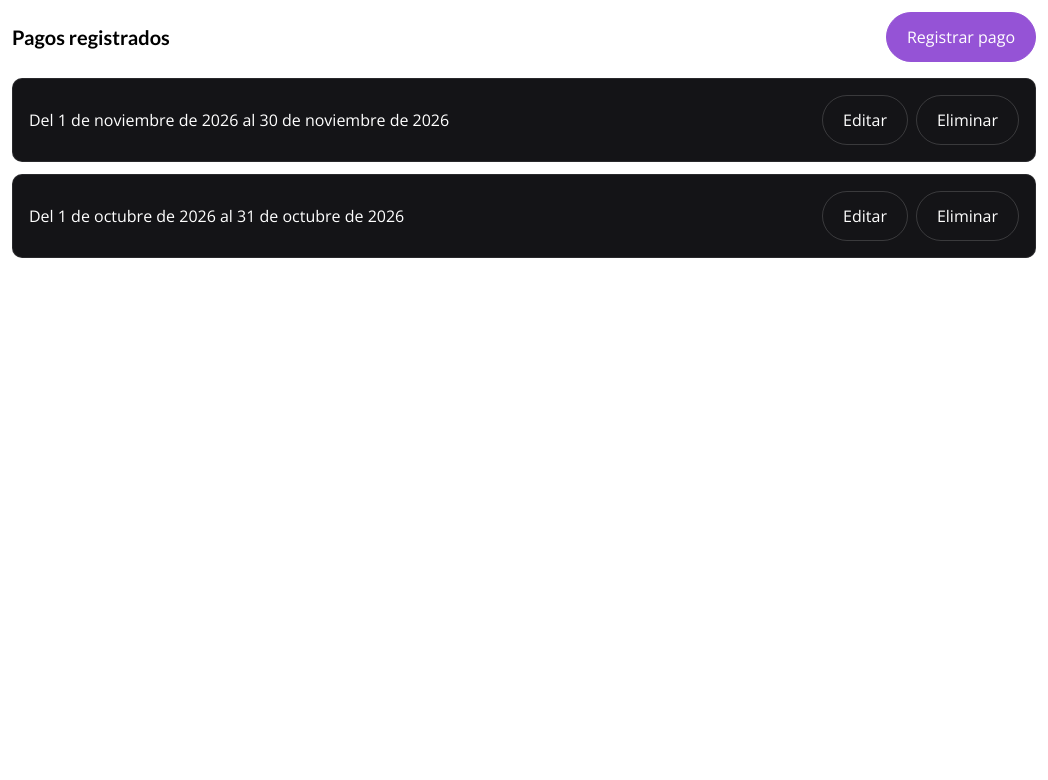
Test: MemberPeriods › recording a payment › opens the form above the list, starting after the latest payment that has not ended
Click the button "Registrar pago": (961, 37) [886,12,1036,62]
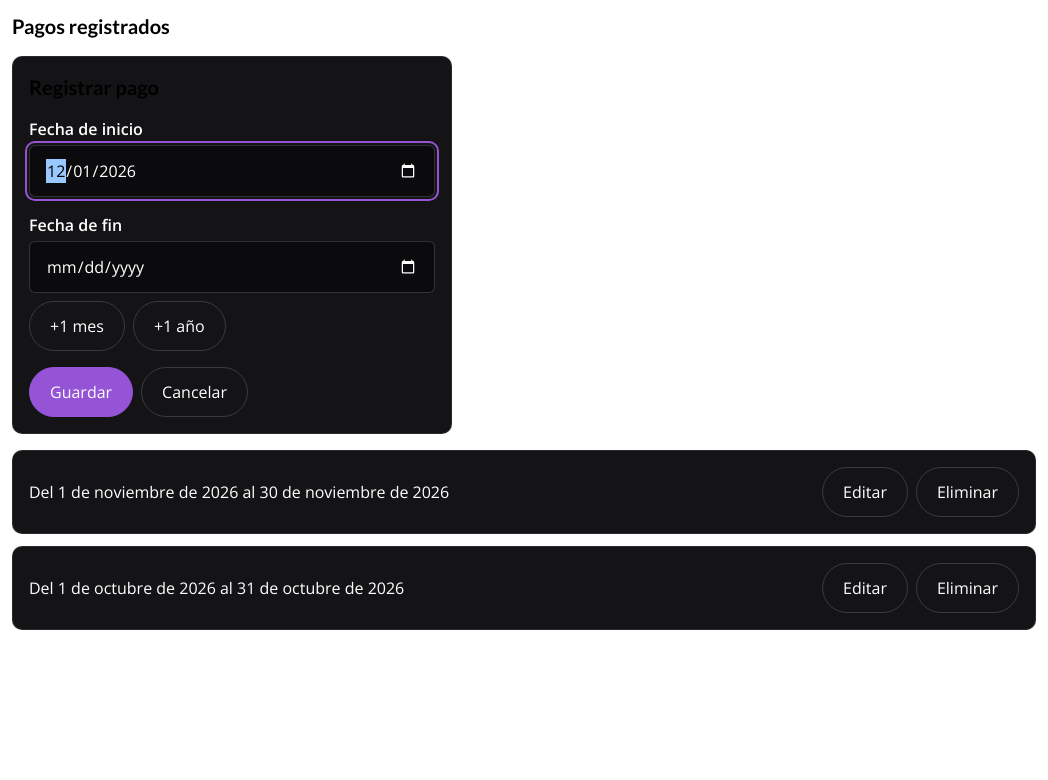
expect the form "Registrar pago" is shown: met, box [12,56,452,434]
expect the date field labelled "Fecha de inicio" holds "2026-12-01": met, box [29,145,435,197]
expect the date field labelled "Fecha de fin" is empty: met, box [29,241,435,293]
